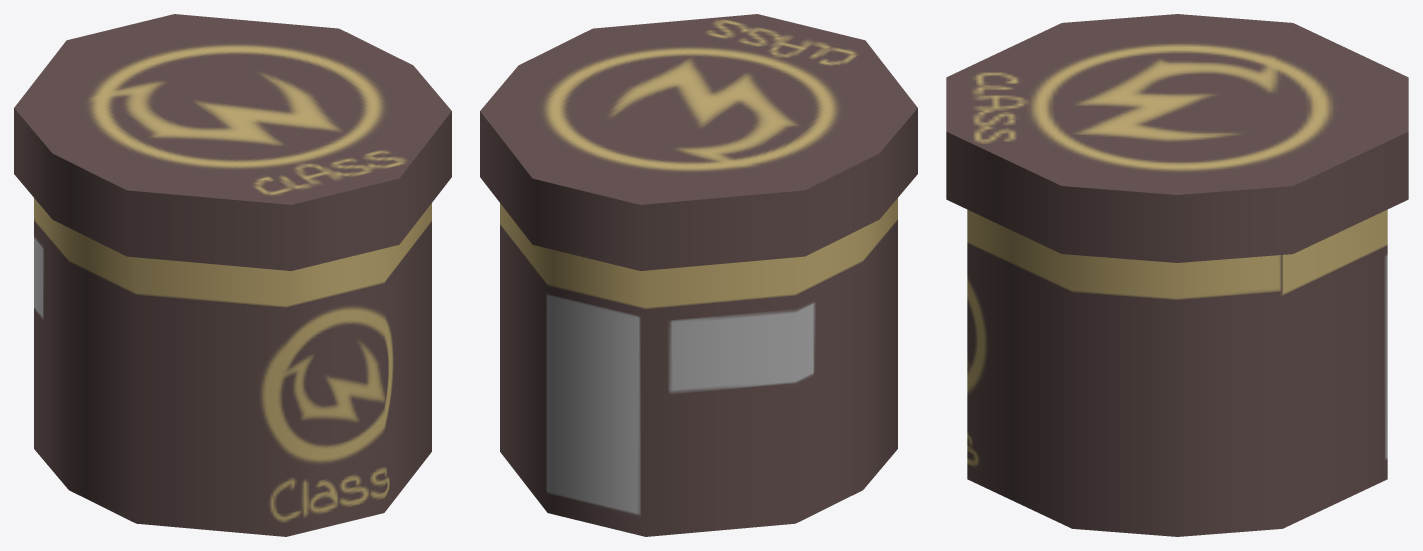
Rendered from Icecream_04.fbx.
3 renders of one model, left to right at view 1: azimuth 30°, elevation 25°; view 2: azimuth 150°, elevation 25°; view 3: azimuth 270°, elevation 25°, orthographic. The views are drawn at different scales.
Parts seen in each view (by area): view 1: Icecream_04; view 2: Icecream_04; view 3: Icecream_04.
Part boxes in pixels (<box>): Icecream_04: <box>14,14,451,536</box>; Icecream_04: <box>480,14,917,536</box>; Icecream_04: <box>946,14,1408,536</box>.
Bounding box in the file's own units: 21.42 × 19.32 × 23.12.
